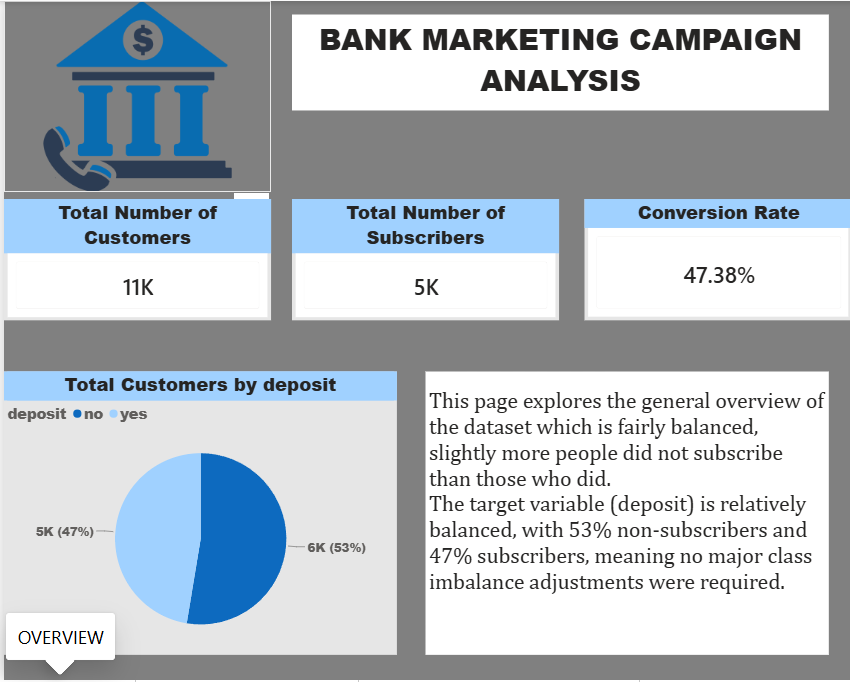

The page's visual inventory and layout, read from the dashboard file:
{"tool":"powerbi","page":{"name":"OVERVIEW","canvas":[1250,1000],"ordinal":0},"visuals":[{"type":"image","box":[0,0,393.2,280.6],"z":0},{"type":"textbox","box":[424.2,19.9,790.9,141.4],"z":1000},{"type":"cardVisual","title":"Total Number of Customers","fields":{"Data":["bank_marketing_cleaned.Total Customers"]},"box":[0,291.6,393.2,178.9],"z":2000},{"type":"cardVisual","title":"Total Number of Subscribers","fields":{"Data":["bank_marketing_cleaned.Total Subscribers"]},"box":[424.2,291.6,393.2,178.9],"z":3000},{"type":"cardVisual","title":"Conversion Rate","fields":{"Data":["bank_marketing_cleaned.Conversion Rate"]},"box":[855,291.6,395.4,178.9],"z":4000},{"type":"pieChart","fields":{"Category":["bank_marketing_cleaned.deposit"],"Y":["bank_marketing_cleaned.Total Customers"]},"box":[0,545.7,578.8,417.5],"z":5000},{"type":"textbox","box":[620.8,545.7,594.3,417.5],"z":6000}]}

Visuals, with their boxes in screenshot pixels (x1, y1, x2, y2), scaled from the page's 1250x1000 canvas onto the 850x682 screenshot:
image: box(0, 0, 267, 191)
textbox: box(288, 14, 826, 110)
"Total Number of Customers" cardVisual: box(0, 199, 267, 321)
"Total Number of Subscribers" cardVisual: box(288, 199, 556, 321)
"Conversion Rate" cardVisual: box(581, 199, 849, 321)
pieChart - bank_marketing_cleaned.deposit x bank_marketing_cleaned.Total Customers: box(0, 372, 394, 657)
textbox: box(422, 372, 826, 657)
